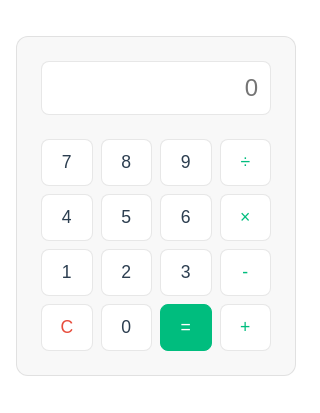
Test case: CalculatorView › reports an unreachable backend
In the field with class "display": (156, 88) top-left (41, 61), bottom-right (271, 115), type "1+2"
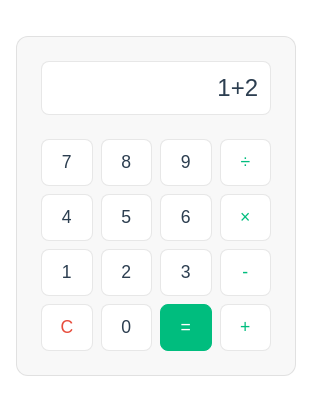
Click the button "=": (186, 328) top-left (160, 304), bottom-right (212, 351)
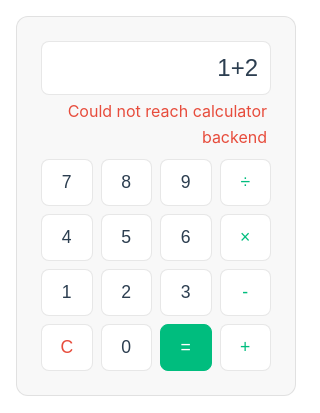
Result: the text with class "error" reads "Could not reach calculator backend" at top-left (68, 101), bottom-right (267, 147)
